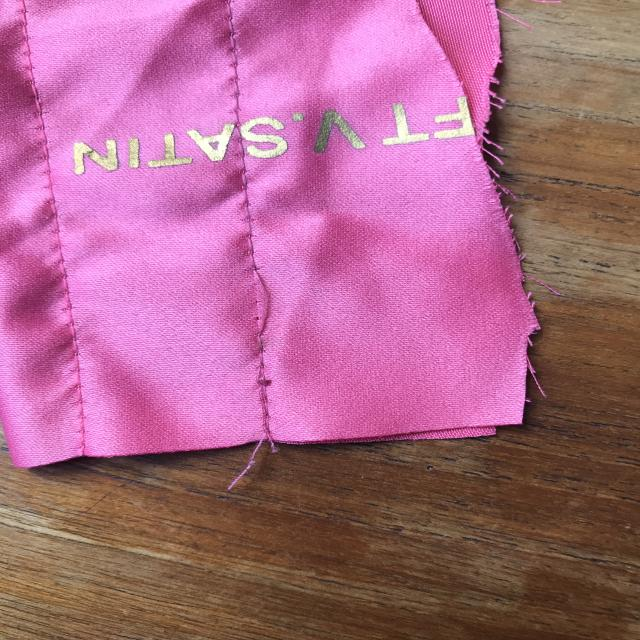skip: (241, 252, 281, 358)
